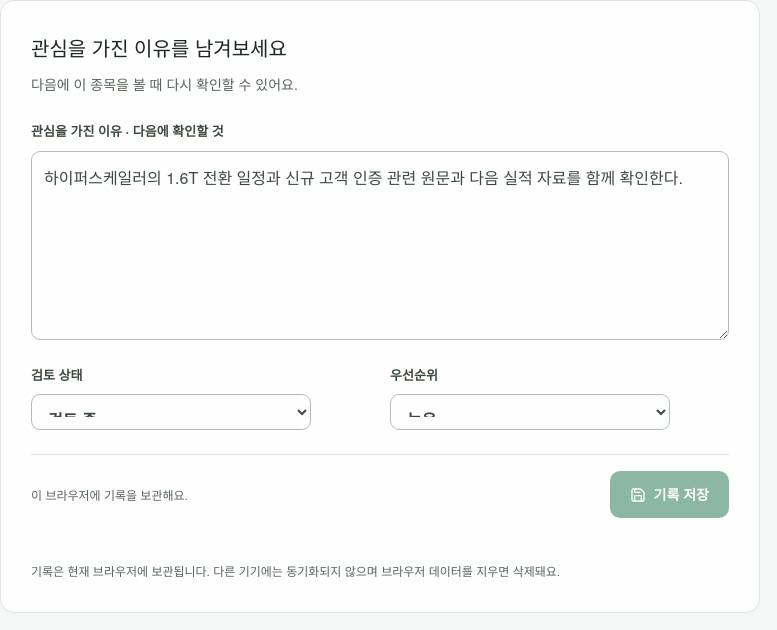
Test: ResearchTab › retains unsaved input and allows retry when storage fails
Step 1. Replace the text in the text box with "잃지 않을 메모" → (380, 245), box [31,150,729,340]
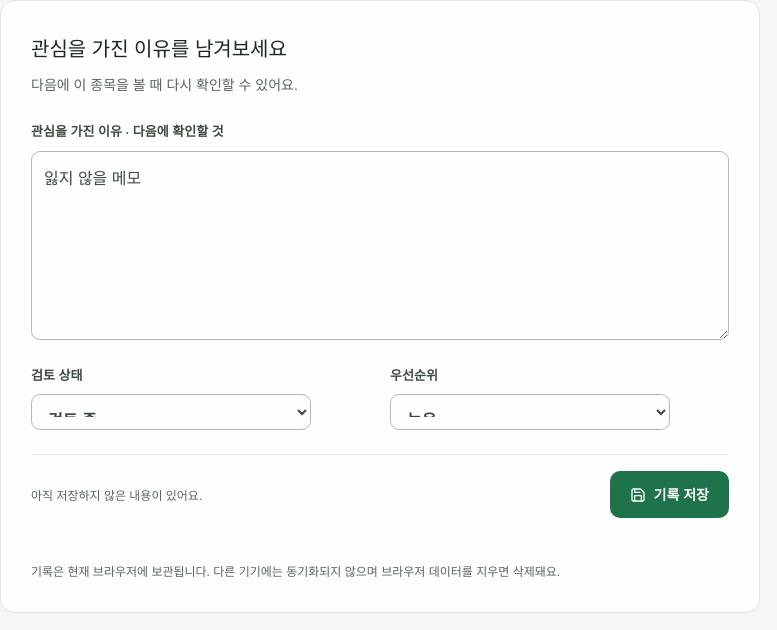
Step 2. Click the button "기록 저장" → (669, 495), box [610,471,729,518]
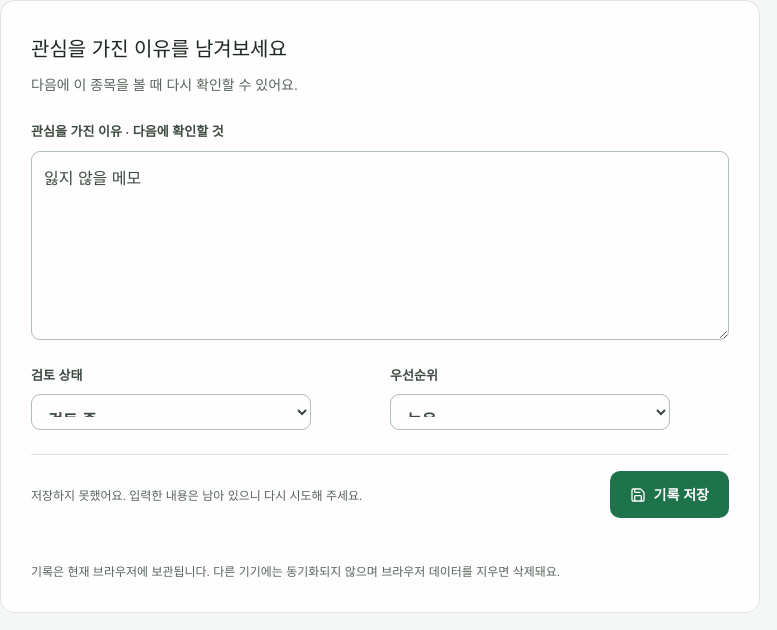
Now the button "기록 저장" is enabled, box [610,471,729,518]
Now the message shows "저장하지 못했어요", box [31,486,362,503]
